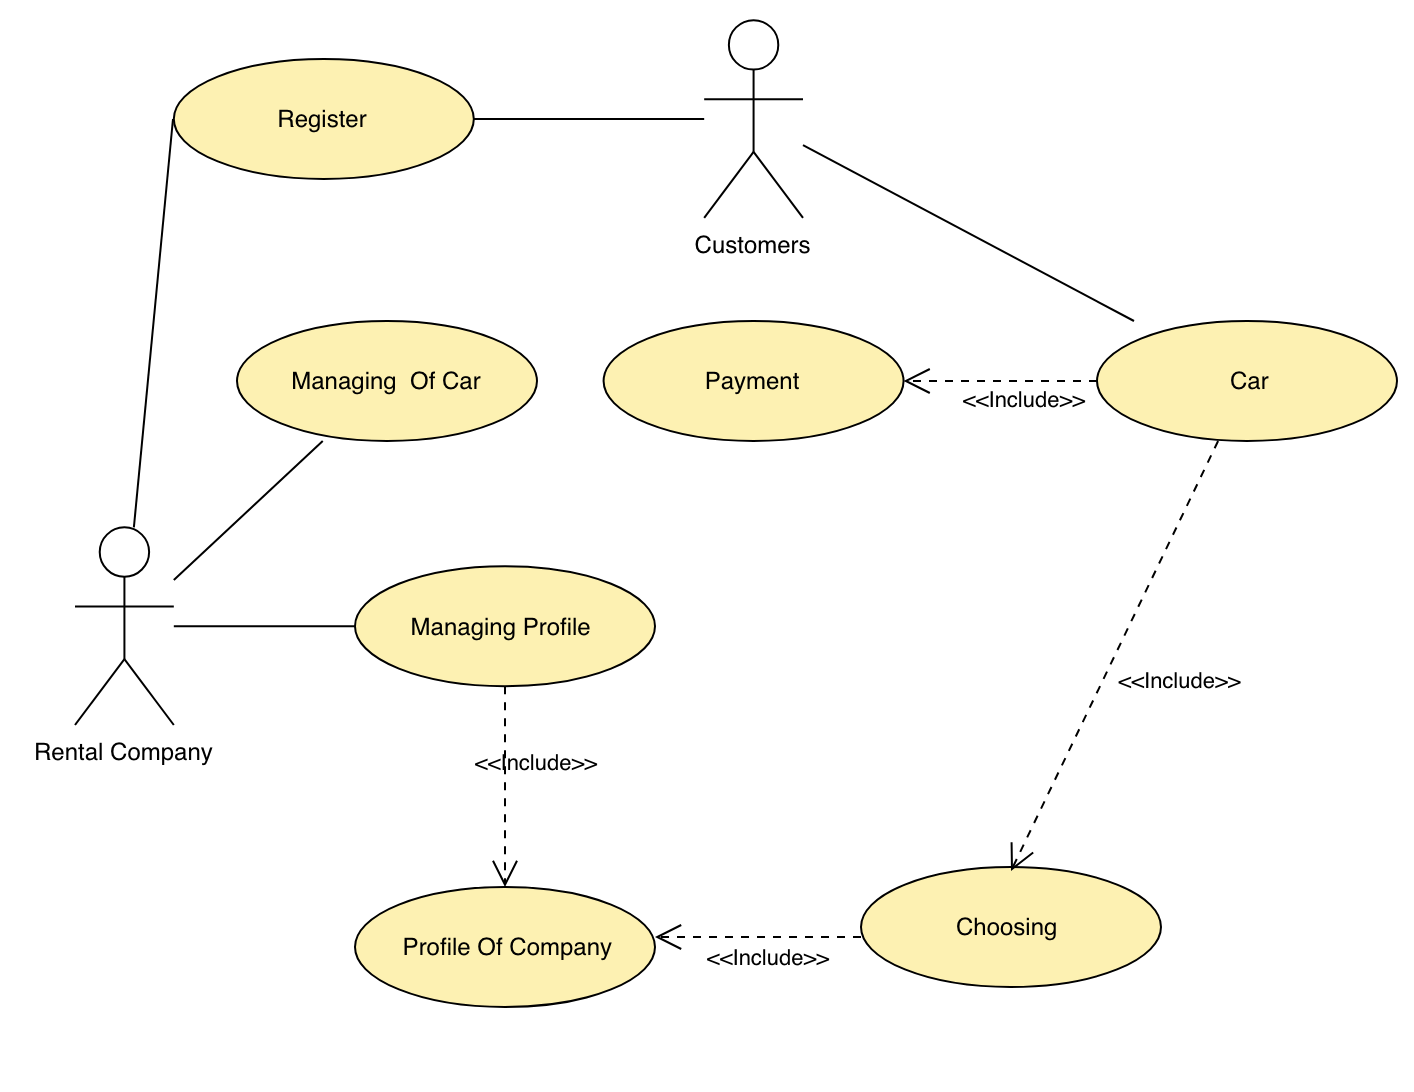actor: (700, 11, 815, 228), (68, 523, 177, 731)
association: (1003, 440, 1220, 868), (802, 140, 1134, 322), (173, 439, 325, 577), (128, 114, 174, 523), (904, 358, 1093, 396), (657, 920, 860, 954), (489, 689, 524, 883), (475, 106, 708, 134), (173, 609, 350, 639)
text: (392, 929, 619, 968), (286, 362, 485, 401), (404, 608, 597, 647), (26, 738, 226, 774), (690, 942, 837, 978), (268, 95, 386, 136), (472, 747, 601, 781), (960, 385, 1091, 418), (701, 360, 807, 399), (1114, 669, 1250, 697), (683, 232, 820, 258), (950, 914, 1067, 944), (1218, 361, 1282, 397)
use_case: (856, 859, 1162, 990), (233, 318, 539, 445), (602, 318, 906, 444), (352, 564, 658, 689), (171, 56, 474, 182), (354, 884, 657, 1011), (1099, 318, 1396, 445)
